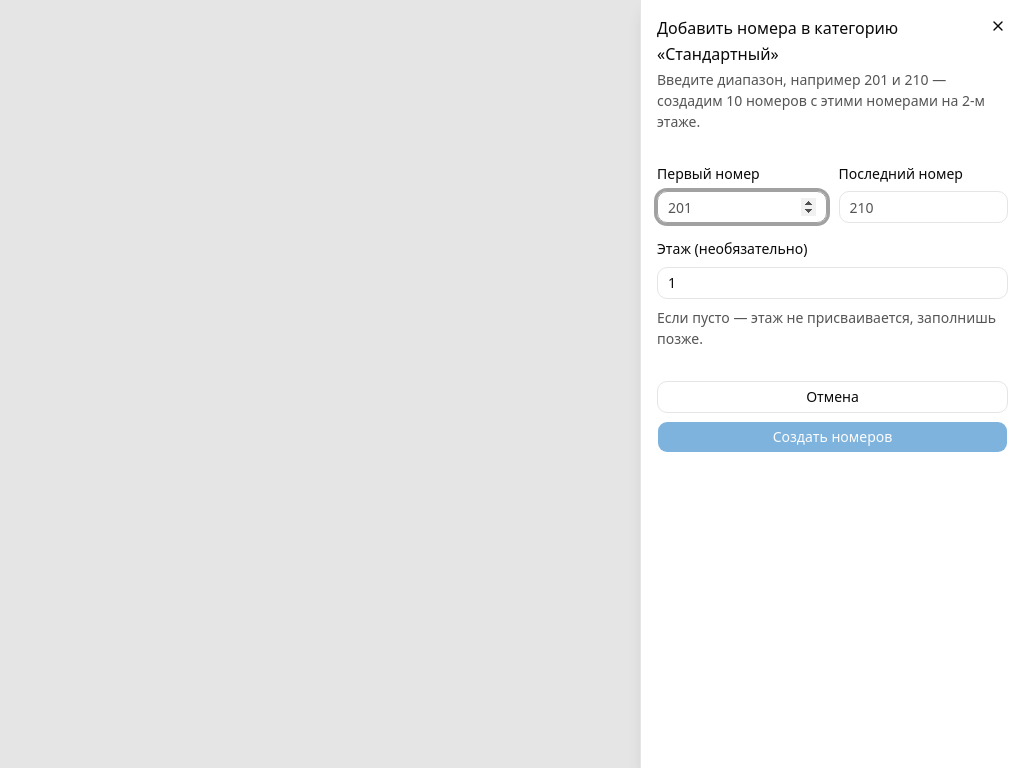
Test case: RoomsBulkAddSheet — floor inline-bounds (B5.bis) › [B2] floor=-6 surfaces «Не меньше -5» (mirrors server min)
The width and height of the screenshot is (1024, 768).
Replace the text in the number field labelled "Этаж (необязательно)" with "-6": [832, 283] box [657, 267, 1008, 299]
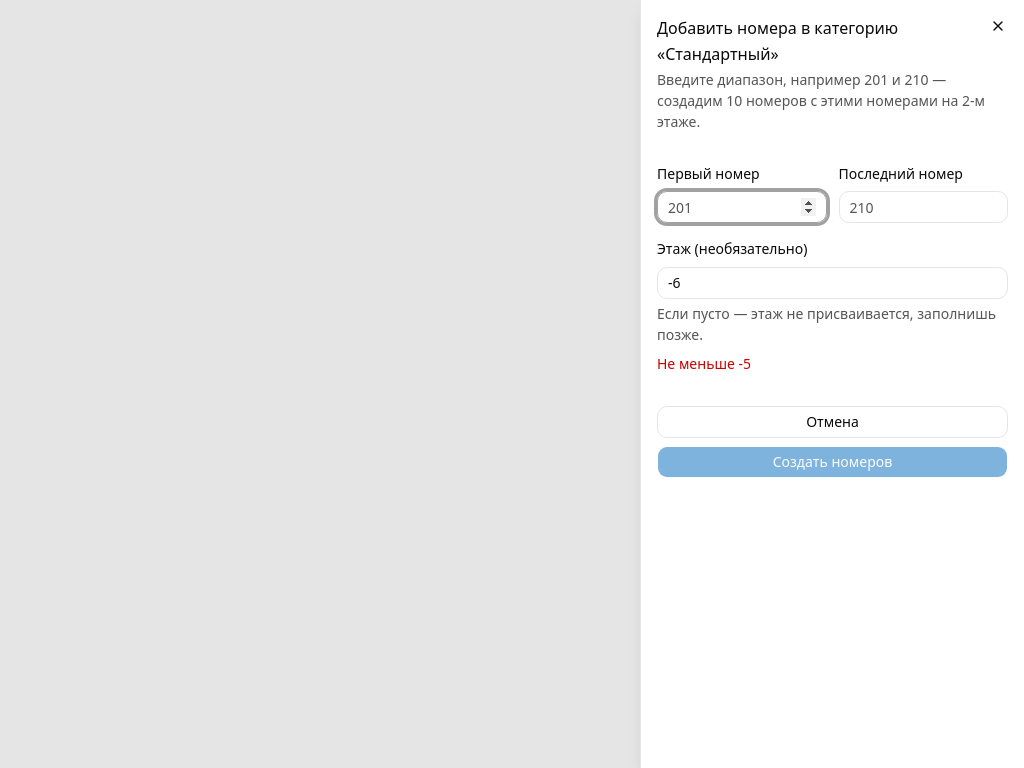
Expected: the text "Не меньше -5" is shown, [657, 354, 751, 373]
